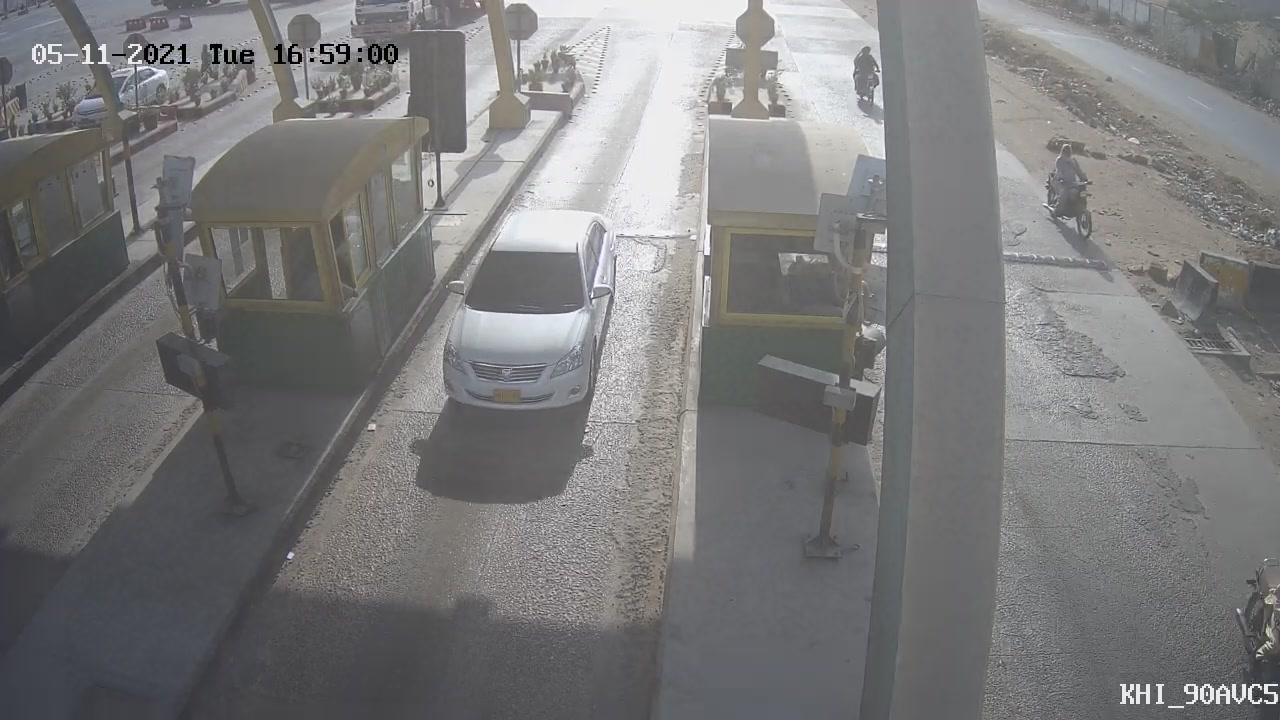F1: (421, 188, 639, 433)
